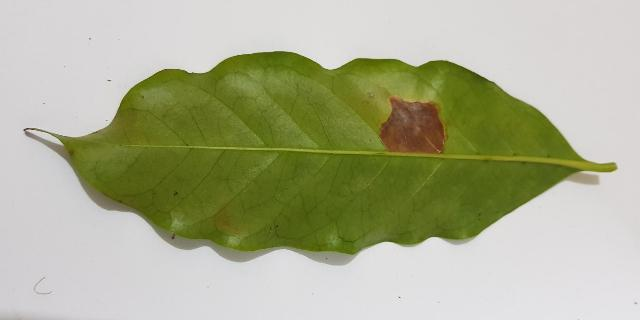cercospora: (379, 96, 446, 153)
